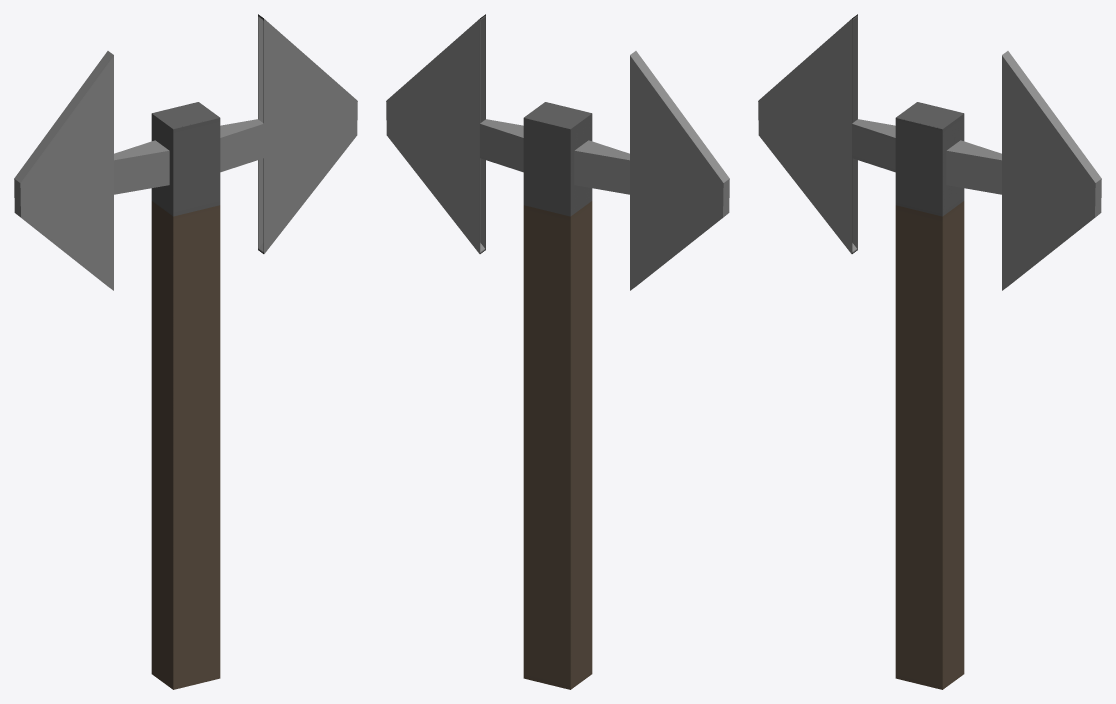
File: Axe.fbx
The picture shows the model from 3 angles, left to right: view 1: azimuth 30°, elevation 25°; view 2: azimuth 150°, elevation 25°; view 3: azimuth 330°, elevation 25°; orthographic projection.
Visible parts, largest first — view 1: axe; view 2: axe; view 3: axe.
Part boxes in pixels (bbox=[...]): axe: bbox=[14, 14, 357, 689]; axe: bbox=[386, 14, 729, 689]; axe: bbox=[758, 14, 1101, 689].
Bounding box in the file's own units: 168 × 306 × 18.87.
